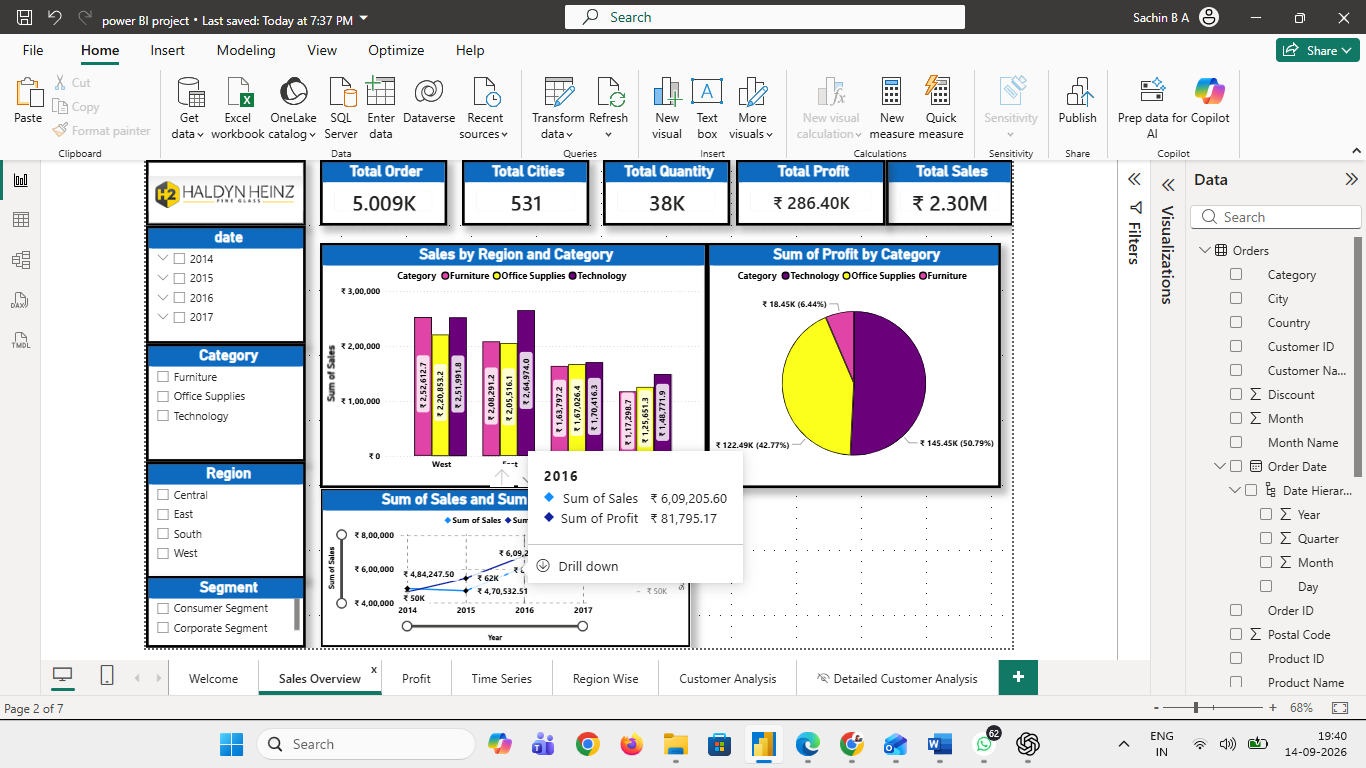

What the dashboard file says about the page in this screenshot:
{"tool":"powerbi","page":{"name":"Sales Overview","canvas":[1280,720],"ordinal":1},"visuals":[{"type":"image","box":[0,0,236.3,97.5],"z":0},{"type":"cardVisual","title":"Total Sales","fields":{"Data":["Sum(Orders.Sales)"]},"box":[1092.4,0,187.6,97.5],"z":1000},{"type":"cardVisual","title":"Total Quantity","fields":{"Data":["Sum(Orders.Quantity)"]},"box":[675.2,0,187.6,97.5],"z":2000},{"type":"cardVisual","title":"Total Profit","fields":{"Data":["Sum(Orders.Profit)"]},"box":[871.4,0,221.4,97.1],"z":3000},{"type":"cardVisual","title":"Total Order","fields":{"Data":["Count(Orders.Order ID)"]},"box":[257.6,0,187.6,97.5],"z":4000},{"type":"cardVisual","title":"Total Cities","fields":{"Data":["Count(Orders.City)"]},"box":[466.4,0,187.6,97.5],"z":5000},{"type":"slicer","title":"date","fields":{"Values":["Orders.Order Date.Variation.Date Hierarchy.Year","Orders.Order Date.Variation.Date Hierarchy.Quarter","Orders.Order Date.Variation.Date Hierarchy.Month","Orders.Order Date.Variation.Date Hierarchy.Day"]},"box":[0,97.5,236.3,174.3],"z":6000},{"type":"slicer","title":"Category","fields":{"Values":["Orders.Category"]},"box":[0,271.8,236.3,174.3],"z":7000},{"type":"slicer","title":"Region","fields":{"Values":["Orders.Region"]},"box":[0,446,236.3,174.3],"z":8000},{"type":"slicer","title":"Segment","fields":{"Values":["Orders.Segment"]},"box":[0,614.4,236.3,106.3],"z":9000},{"type":"clusteredColumnChart","title":"Sales by Region and Category","fields":{"Category":["Orders.Region"],"Series":["Orders.Category"],"Y":["Sum(Orders.Sales)"]},"box":[257,122.6,571.6,361.8],"z":10000},{"type":"pieChart","fields":{"Category":["Orders.Category"],"Y":["Sum(Orders.Profit)"]},"box":[828.6,122.6,434.2,361.8],"z":11000},{"type":"lineChart","fields":{"Category":["Orders.Order Date.Variation.Date Hierarchy.Year","Orders.Order Date.Variation.Date Hierarchy.Quarter","Orders.Order Date.Variation.Date Hierarchy.Month","Orders.Order Date.Variation.Date Hierarchy.Day"],"Y":["Sum(Orders.Sales)"],"Y2":["Sum(Orders.Profit)"]},"box":[257,484.4,547.9,236.3],"z":12000}]}

Visuals, with their boxes on the page's 1280x720 design canvas (x1, y1, x2, y2). These are canvas units, not pixel positions in the 1366x768 screenshot, which may show the page scaled, cropped or inside an application window:
image: BBox(0, 0, 236, 98)
"Total Sales" cardVisual: BBox(1092, 0, 1280, 98)
"Total Quantity" cardVisual: BBox(675, 0, 863, 98)
"Total Profit" cardVisual: BBox(871, 0, 1093, 97)
"Total Order" cardVisual: BBox(258, 0, 445, 98)
"Total Cities" cardVisual: BBox(466, 0, 654, 98)
"date" slicer: BBox(0, 98, 236, 272)
"Category" slicer: BBox(0, 272, 236, 446)
"Region" slicer: BBox(0, 446, 236, 620)
"Segment" slicer: BBox(0, 614, 236, 721)
"Sales by Region and Category" clusteredColumnChart: BBox(257, 123, 829, 484)
pieChart - Orders.Category x Sum(Orders.Profit): BBox(829, 123, 1263, 484)
lineChart - Orders.Order Date.Variation.Date Hierarchy.Year x Orders.Order Date.Variation.Date Hierarchy.Quarter: BBox(257, 484, 805, 721)
